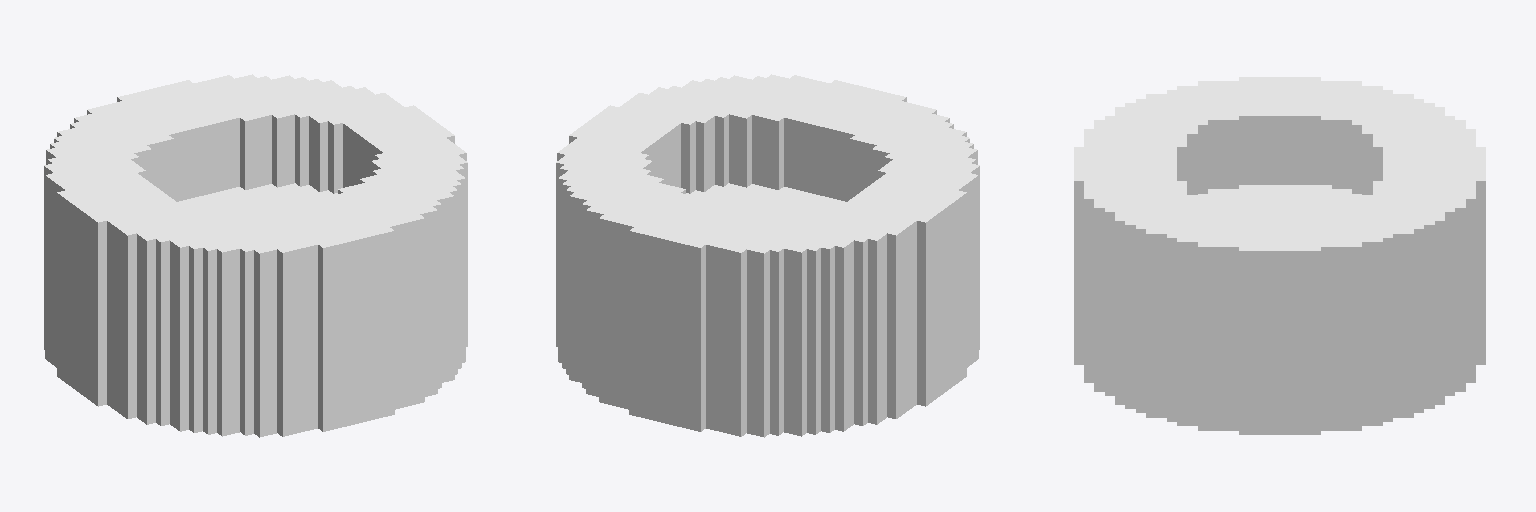
File: chimenea_opt.obj
The picture shows the model from 3 angles: view 1: azimuth 30°, elevation 25°; view 2: azimuth 150°, elevation 25°; view 3: azimuth 270°, elevation 25°; orthographic projection.
Parts seen in each view (by area): view 1: CHIMENEAN; view 2: CHIMENEAN; view 3: CHIMENEAN.
Part boxes in pixels (left/top/right/bottom): CHIMENEAN: left=44, top=74, right=467, bottom=437; CHIMENEAN: left=556, top=74, right=979, bottom=437; CHIMENEAN: left=1074, top=77, right=1485, bottom=434.
Size of the model in its own units: 3.2 by 1.58 by 3.2.